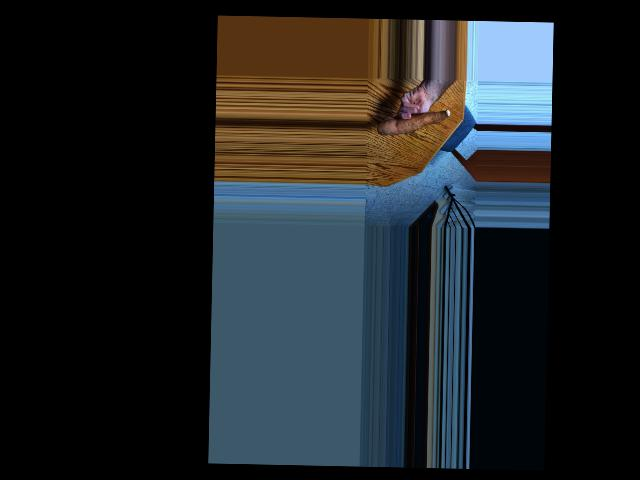sweet_potato: (379, 105, 451, 139)
